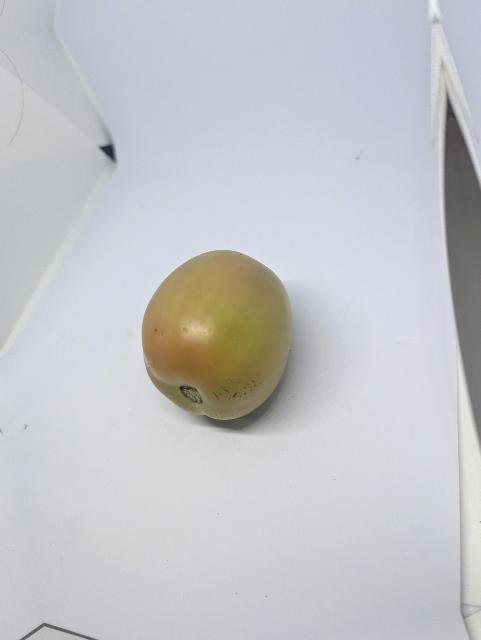breaker: (138, 248, 299, 421)
